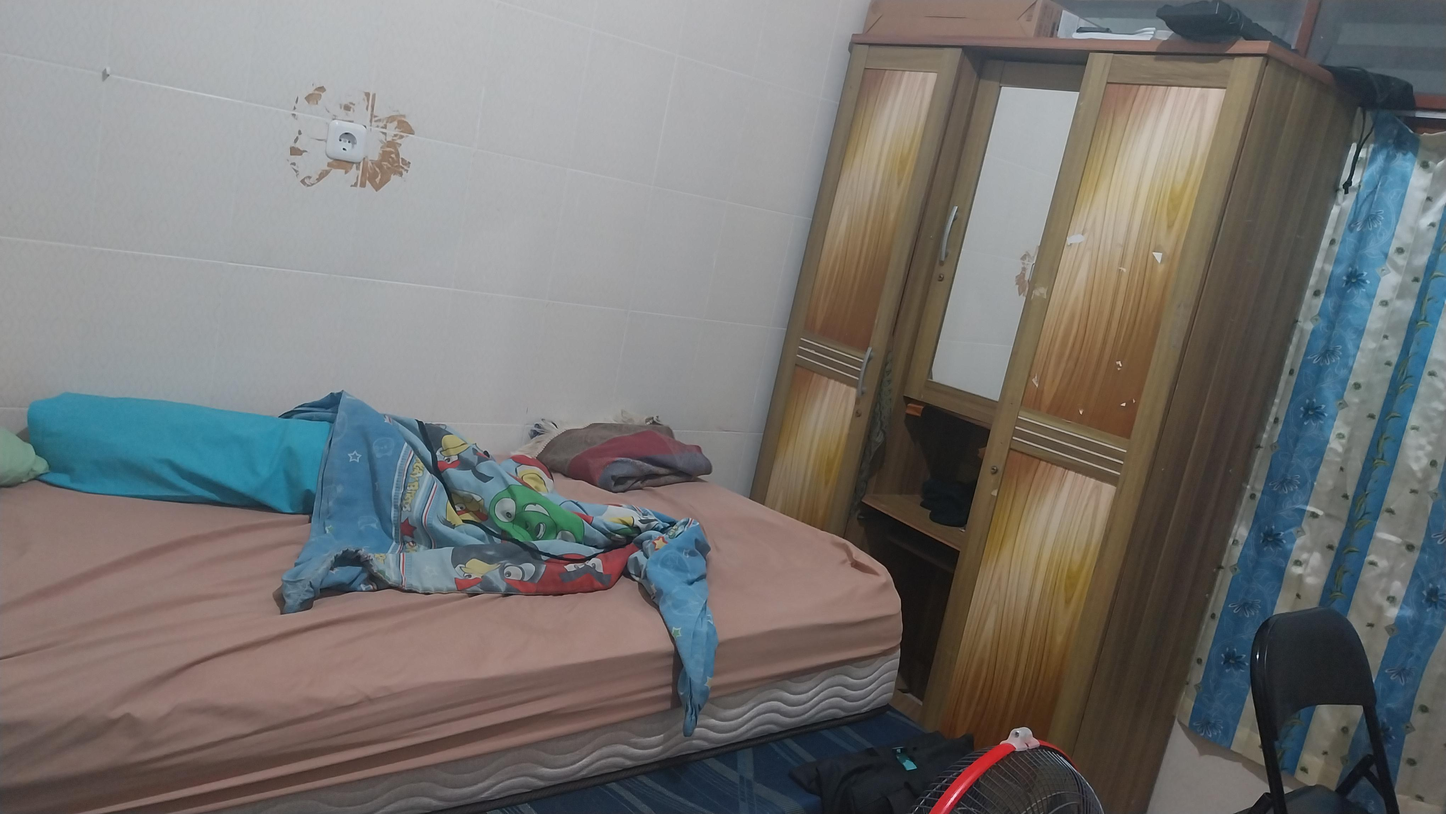bed: (0, 468, 904, 814), (479, 697, 943, 814)
blanket: (223, 374, 764, 741)
cabinet-merged: (700, 0, 1367, 814)
curtain: (1169, 105, 1446, 814), (1270, 696, 1377, 798), (1349, 779, 1392, 814)
pillow: (20, 387, 333, 517), (0, 425, 50, 487)
wall: (1, 0, 870, 500)
